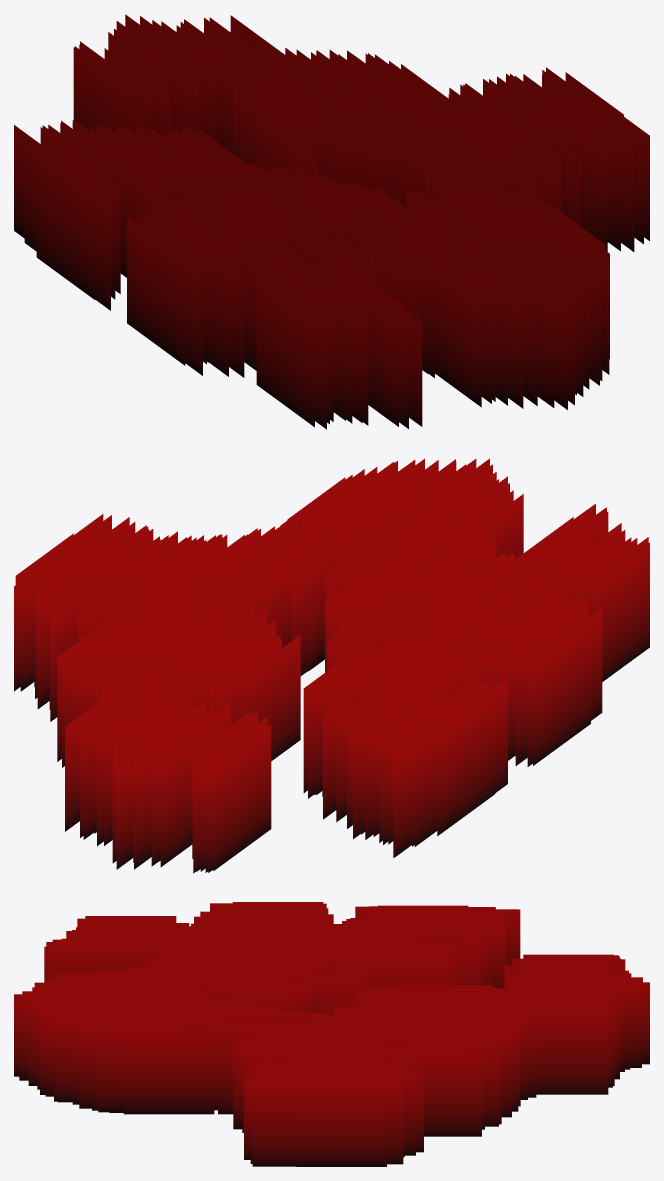
Rendered from Roseau 2.fbx.
3 views of the same model, one above another, from view 1: azimuth 30°, elevation 25°; view 2: azimuth 150°, elevation 25°; view 3: azimuth 270°, elevation 25° (orthographic). The views are drawn at different scales.
Parts seen in each view (by area): view 1: Landscape.007; view 2: Landscape.007; view 3: Landscape.007.
Boxes of the visible parts, <box> form: Landscape.007: <box>14,14,649,429</box>; Landscape.007: <box>14,458,649,873</box>; Landscape.007: <box>14,902,649,1166</box>.
Bounding box in the file's own units: 1.59 × 0.4335 × 2.36.
